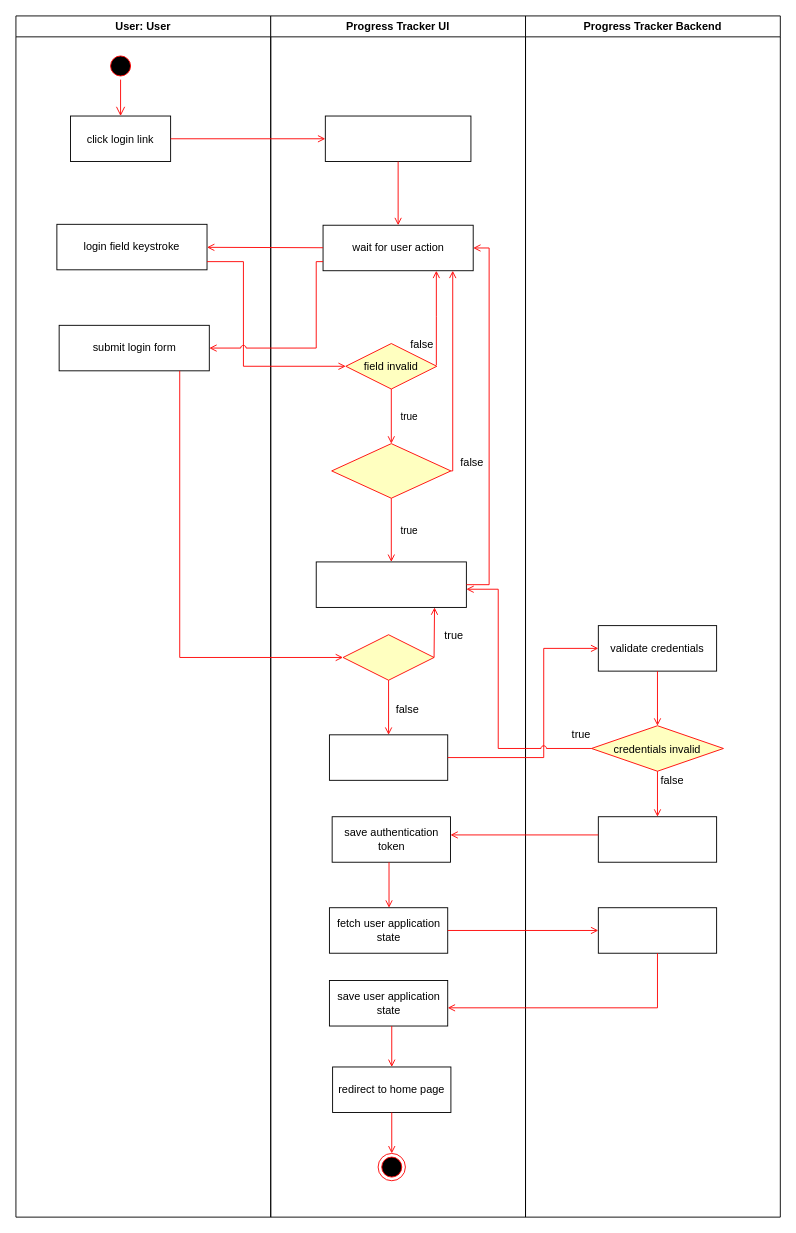
The diagram is 796 pixels wide and 1233 high, and some of its shapes have lost their labels. The centre of each missing label's shape, as x and y in pixels:
"create authentication token" goes at point (657, 839).
"display invalid feedback" goes at point (390, 584).
"field(s) invalid" goes at point (388, 657).
"load user application state" goes at point (657, 930).
"login user request" goes at point (388, 757).
"redirect to login page" goes at point (397, 138).
"submit attempted" goes at point (391, 470).
